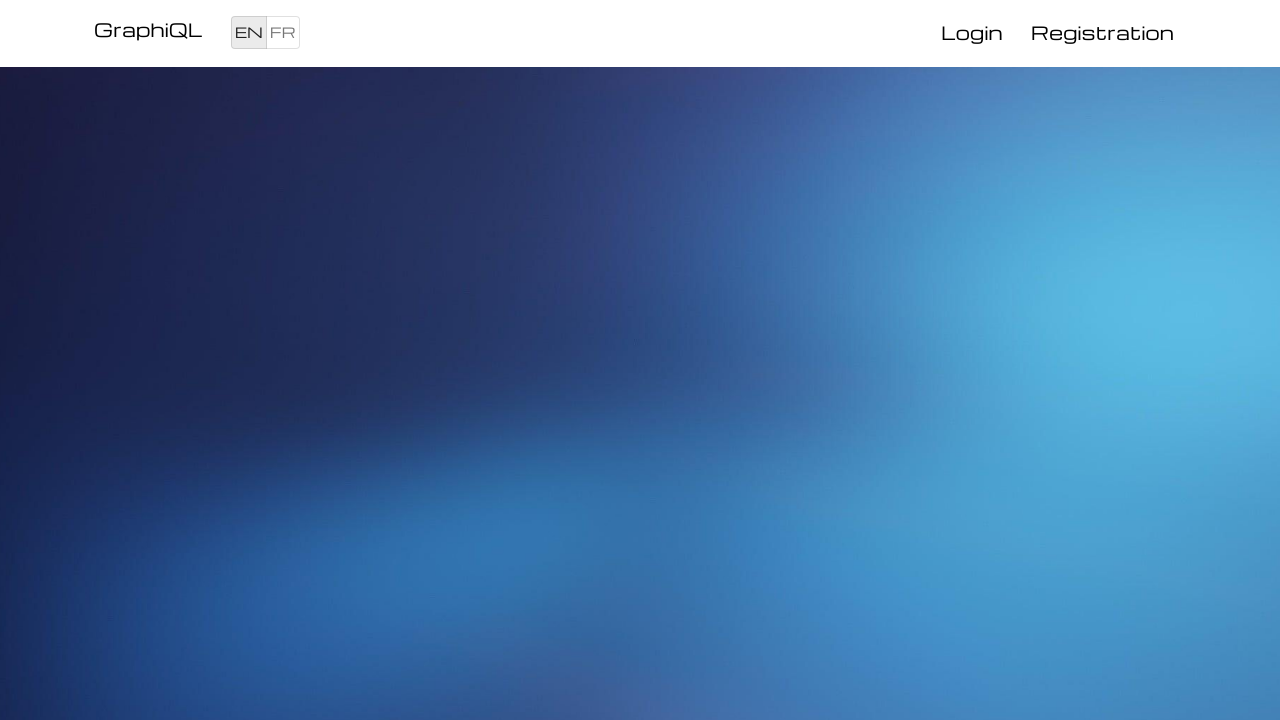
Scenario: Header › should navigate to Login page on Login link click
The width and height of the screenshot is (1280, 720).
Click the link "Login".
click(972, 32)  # box [941,19,1003,46]
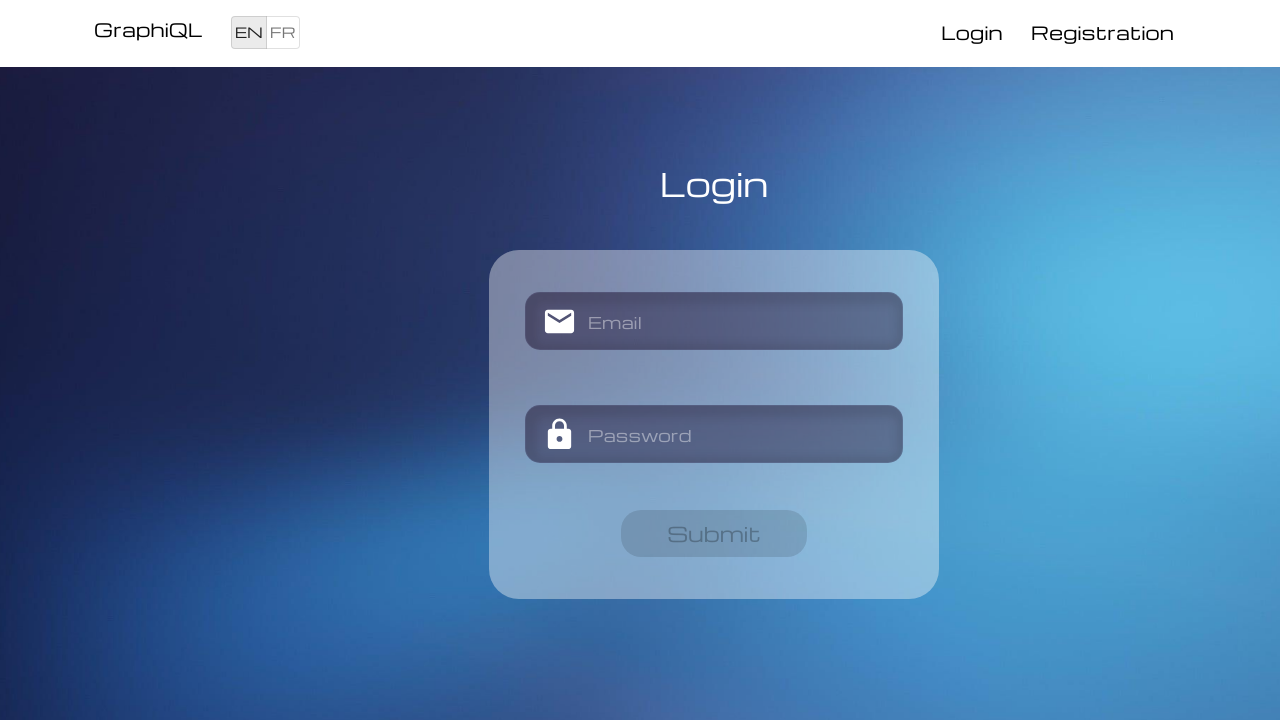
Check: the heading "Login" is shown, box [660,165,768,202]
Check: the heading reads "Login", box [660,160,768,206]
